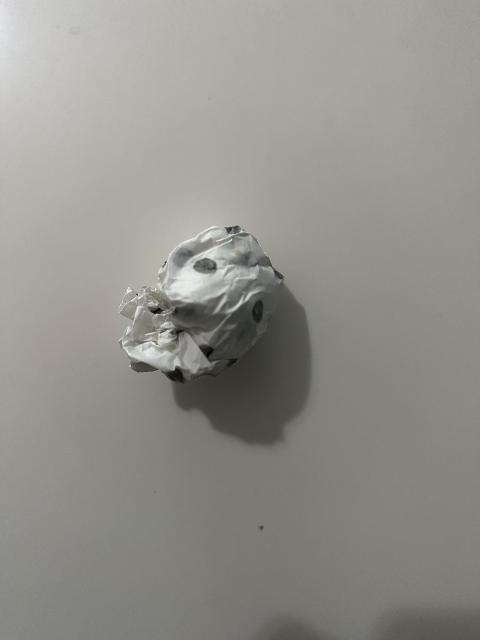Kagit: (95, 195, 317, 390)
